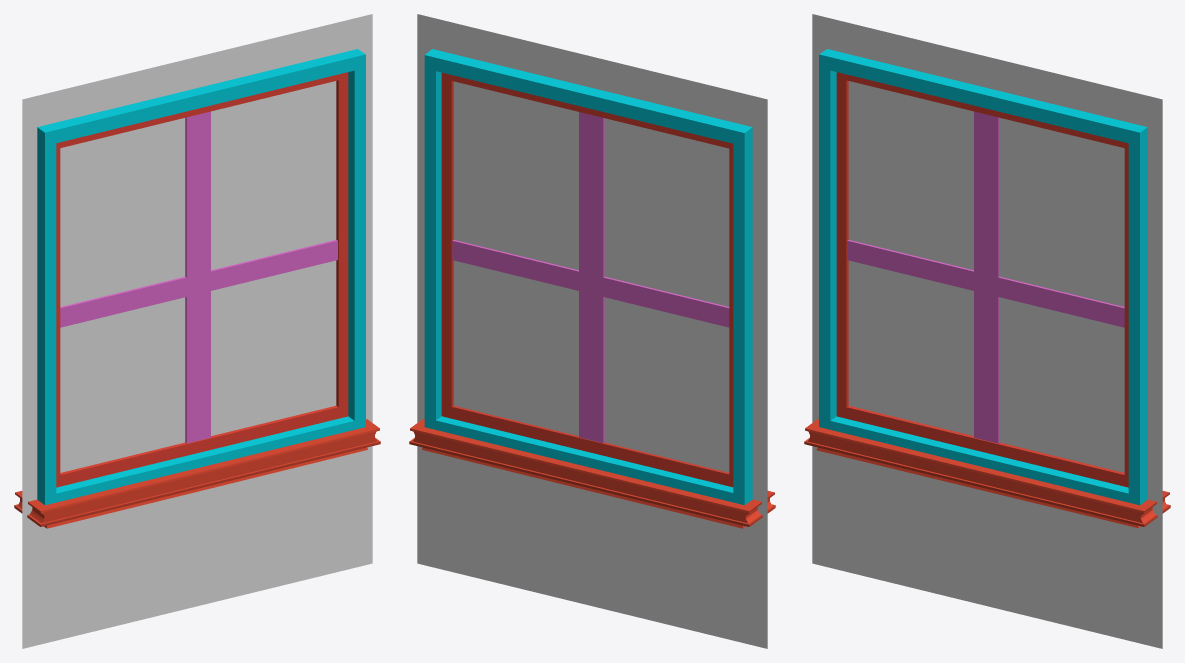
Rendered from VENTANA_CORR.fbx.
3 views of the same model, side by side, from view 1: azimuth 30°, elevation 25°; view 2: azimuth 150°, elevation 25°; view 3: azimuth 330°, elevation 25° (orthographic).
Visible parts, largest first — view 1: Plane.015, Plane.014, Cube.032, Cube.031, Cube.034, Cube.035, Cube.036; view 2: Plane.015, Plane.014, Cube.032, Cube.031, Cube.034, Cube.035, Cube.036; view 3: Plane.015, Plane.014, Cube.032, Cube.031, Cube.034, Cube.035, Cube.036.
Boxes of the visible parts, bbox=[...] form: Plane.015: bbox=[60, 81, 336, 472]; Plane.014: bbox=[22, 14, 372, 648]; Cube.032: bbox=[37, 49, 365, 505]; Cube.031: bbox=[56, 72, 348, 487]; Cube.034: bbox=[14, 419, 380, 528]; Cube.035: bbox=[185, 111, 210, 443]; Cube.036: bbox=[60, 239, 337, 327]; Plane.015: bbox=[453, 81, 729, 472]; Plane.014: bbox=[417, 14, 767, 648]; Cube.032: bbox=[424, 49, 752, 505]; Cube.031: bbox=[441, 72, 733, 487]; Cube.034: bbox=[409, 419, 775, 528]; Cube.035: bbox=[579, 112, 604, 443]; Cube.036: bbox=[452, 239, 729, 327]; Plane.015: bbox=[848, 81, 1124, 472]; Plane.014: bbox=[812, 14, 1162, 648]; Cube.032: bbox=[819, 49, 1147, 505]; Cube.031: bbox=[836, 72, 1128, 487]; Cube.034: bbox=[804, 419, 1170, 528]; Cube.035: bbox=[974, 111, 999, 443]; Cube.036: bbox=[847, 239, 1124, 327].
Size of the model in its own units: 200 by 300 by 26.3.
